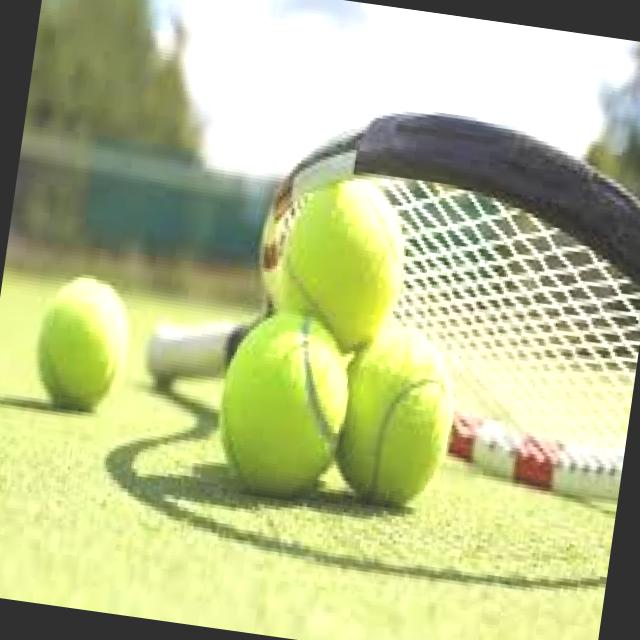tennis-ball: (212, 306, 358, 502), (276, 170, 418, 360), (330, 322, 462, 514), (30, 272, 134, 414)
